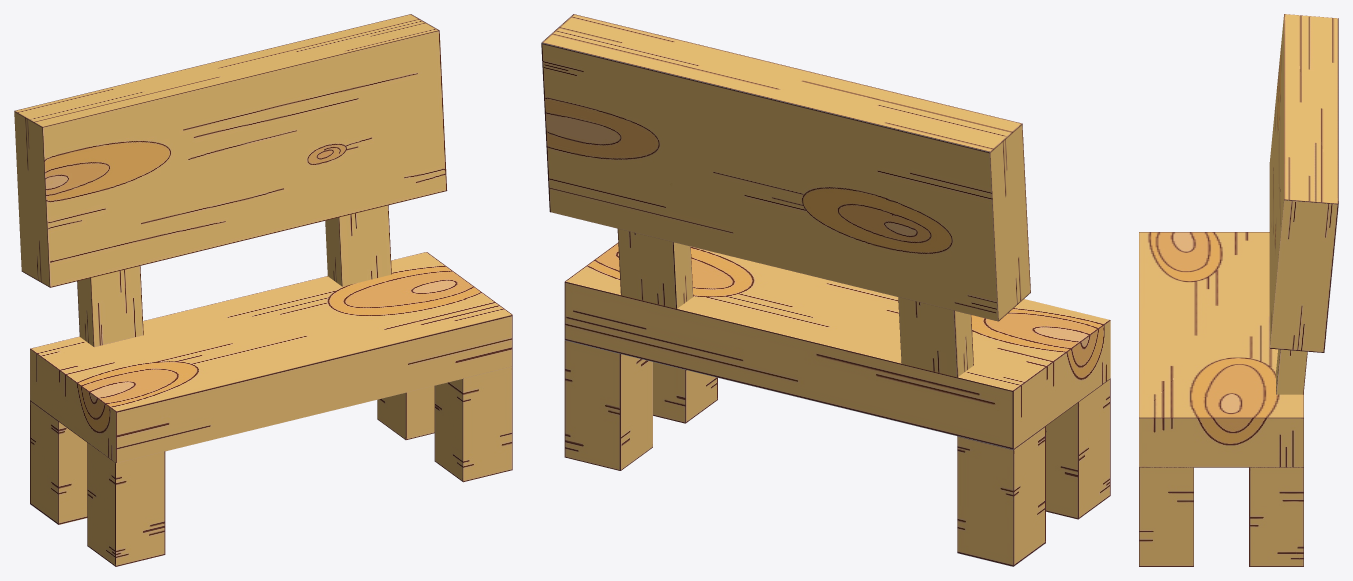
File: Dream_Bench_2.fbx
3 views of the same model, side by side, from view 1: azimuth 30°, elevation 25°; view 2: azimuth 150°, elevation 25°; view 3: azimuth 270°, elevation 25° (orthographic). The views are drawn at different scales.
Parts seen in each view (by area): view 1: Box001, Box004; view 2: Box001, Box004; view 3: Box004, Box001.
Part boxes in pixels (x1,y1,x2,y2): Box001: (14,14,447,346); Box004: (30,252,512,566); Box001: (541,14,1030,377); Box004: (564,242,1110,566); Box004: (1139,232,1303,566); Box001: (1269,14,1338,394).
Size of the model in its own units: 322 by 296 by 145.
2 materials, 2 textured.
